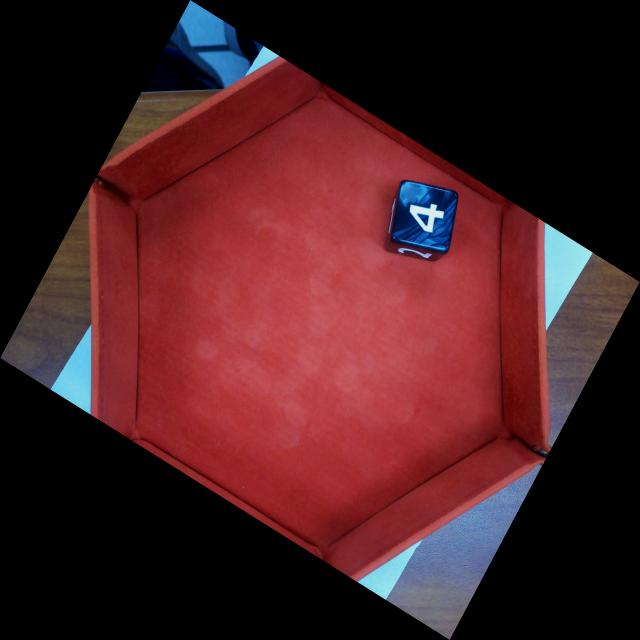dice: (389, 178, 458, 255)
